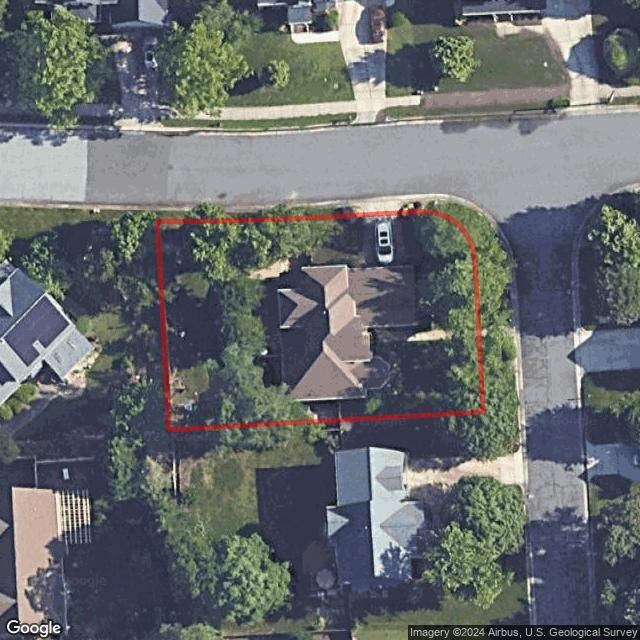Driveway: (357, 216, 405, 267)
Extra-Driveway: (350, 201, 407, 217)
Extra-Lawn: (400, 201, 510, 324), (156, 207, 357, 222), (479, 338, 518, 414)
House: (277, 263, 420, 406)
Lawn: (157, 212, 484, 431)
Other: (250, 252, 293, 278), (252, 330, 278, 360), (306, 401, 341, 422), (180, 401, 195, 413)
Sidewalk: (371, 325, 479, 340)
